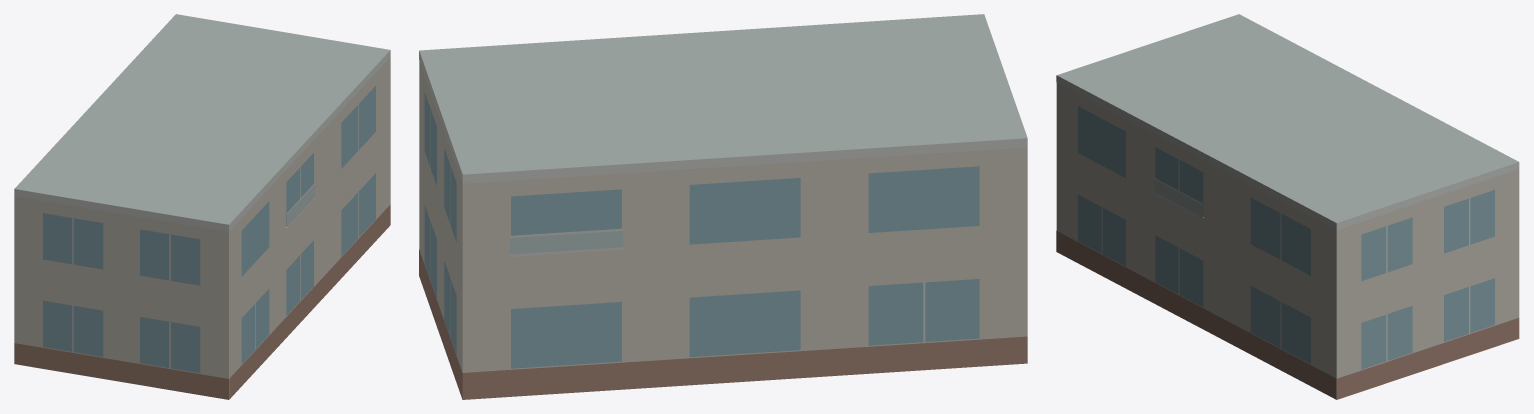
Rendered from survey-upis-32820541.glb.
3 views of the same model, side by side, from view 1: azimuth 30°, elevation 25°; view 2: azimuth 150°, elevation 25°; view 3: azimuth 270°, elevation 25° (orthographic). The views are drawn at different scales.
Visible parts, largest first — view 1: survey-upis-32820541.tmp; view 2: survey-upis-32820541.tmp; view 3: survey-upis-32820541.tmp.
Part boxes in pixels (x1,y1,x2,y2): survey-upis-32820541.tmp: (14,14,390,399); survey-upis-32820541.tmp: (419,14,1027,399); survey-upis-32820541.tmp: (1056,14,1519,399).
Size of the model in its own units: 15.49 by 6.1 by 14.49.
